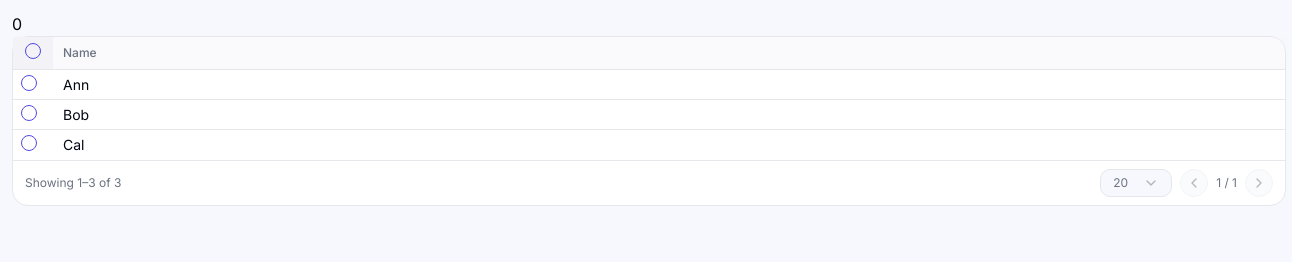
DataTable selection with locked rows › still selects every row when none are locked
Click the checkbox named "Select page" at (33, 51), box [25,43,41,59]
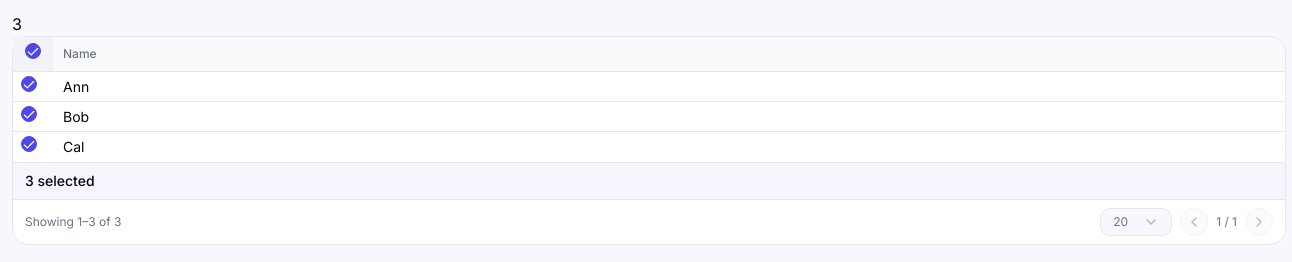
Expected: the text with test id "n" reads "3", [12,14,22,34]
Click the checkbox named "Select page" at (33, 51), box [25,43,41,59]
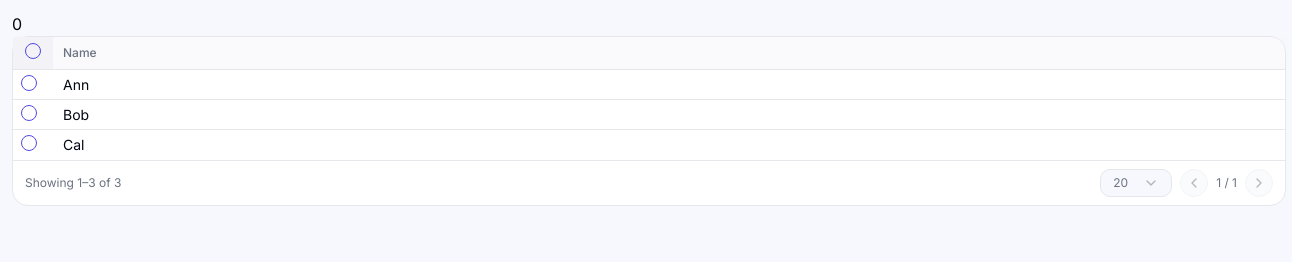
Expected: the text with test id "n" reads "0", [12,14,22,34]
